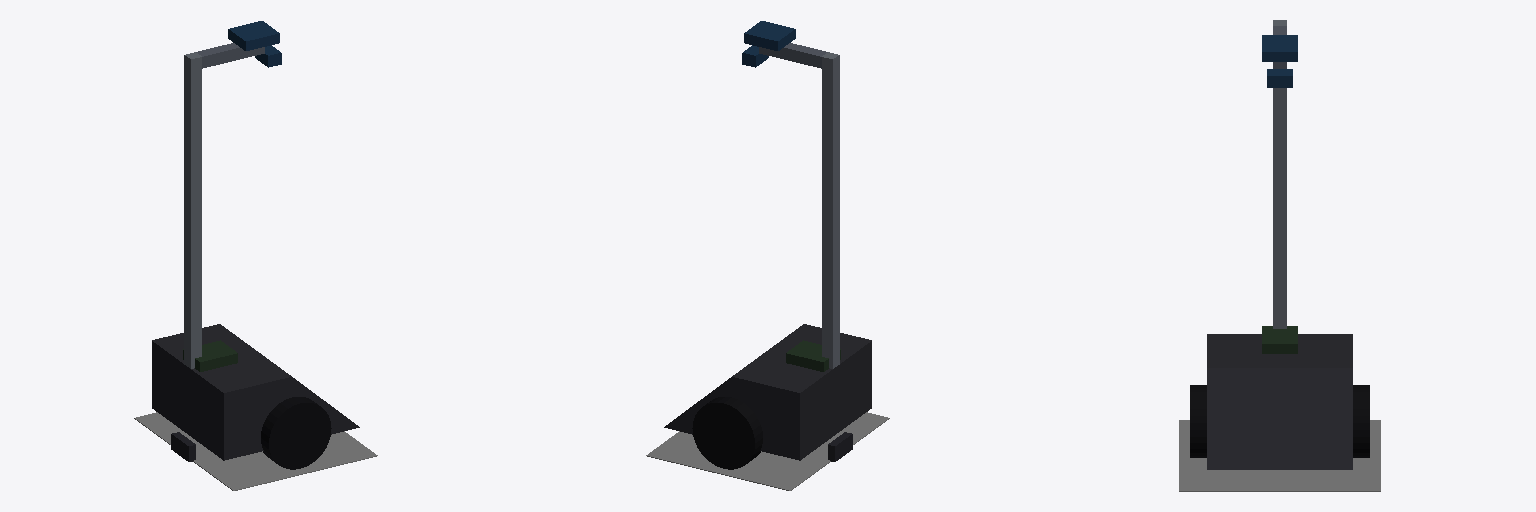
URDF robot description (anglerdroid):
<?xml version="1.0"?>
<robot name="anglerdroid">
  <link name="base_link">
    <!-- Trapezoidal body (STL mesh, origin already at axle centre) -->
    <visual name="body">
      <origin xyz="0 0 0" rpy="0 0 0"/>
      <geometry><mesh filename="meshes/body.stl"/></geometry>
      <material name="body_mat"><color rgba="0.18 0.18 0.20 1"/></material>
    </visual>

    <!-- Left wheel -->
    <visual name="wheel_left">
      <origin xyz="0.0000 -0.1770 0.0000" rpy="1.5708 0 0"/>
      <geometry><cylinder radius="0.0825" length="0.0500"/></geometry>
      <material name="wheel_left_mat"><color rgba="0.09 0.09 0.10 1"/></material>
    </visual>

    <!-- Right wheel -->
    <visual name="wheel_right">
      <origin xyz="0.0000 0.1770 0.0000" rpy="1.5708 0 0"/>
      <geometry><cylinder radius="0.0825" length="0.0500"/></geometry>
      <material name="wheel_right_mat"><color rgba="0.09 0.09 0.10 1"/></material>
    </visual>

    <!-- Caster -->
    <visual name="caster">
      <origin xyz="-0.1900 0.0000 -0.0650" rpy="0 0 0"/>
      <geometry><box size="0.0200 0.0800 0.0400"/></geometry>
      <material name="caster_mat"><color rgba="0.16 0.16 0.18 1"/></material>
    </visual>

    <!-- Mast -->
    <visual name="mast">
      <origin xyz="-0.1650 0.0000 0.5250" rpy="0 0 0"/>
      <geometry><box size="0.0300 0.0300 0.7800"/></geometry>
      <material name="mast_mat"><color rgba="0.40 0.42 0.45 1"/></material>
    </visual>

    <!-- Camera arm -->
    <visual name="camera_arm">
      <origin xyz="-0.0675 0.0000 0.9000" rpy="0 0 0"/>
      <geometry><box size="0.1650 0.0300 0.0300"/></geometry>
      <material name="camera_arm_mat"><color rgba="0.34 0.36 0.40 1"/></material>
    </visual>

    <!-- RS1 top-down camera -->
    <visual name="rs1_topdown">
      <origin xyz="-0.0050 0.0000 0.9275" rpy="0 0 0"/>
      <geometry><box size="0.0900 0.0800 0.0250"/></geometry>
      <material name="rs1_topdown_mat"><color rgba="0.12 0.22 0.32 1"/></material>
    </visual>

    <!-- RS2 forward camera -->
    <visual name="rs2_forward">
      <origin xyz="0.0325 0.0000 0.8700" rpy="0 0 0"/>
      <geometry><box size="0.0350 0.0600 0.0300"/></geometry>
      <material name="rs2_forward_mat"><color rgba="0.12 0.22 0.32 1"/></material>
    </visual>

    <!-- Jetson NX -->
    <visual name="jetson_nx">
      <origin xyz="-0.1200 0.0000 0.1475" rpy="0 0 0"/>
      <geometry><box size="0.1000 0.0800 0.0250"/></geometry>
      <material name="jetson_nx_mat"><color rgba="0.16 0.22 0.16 1"/></material>
    </visual>

    <!-- Base footprint (ground reference, transparent) -->
    <visual name="footprint">
      <origin xyz="0.0000 0.0000 -0.0840" rpy="0 0 0"/>
      <geometry><box size="0.3800 0.4540 0.0020"/></geometry>
      <material name="footprint_mat"><color rgba="0.5 0.5 0.5 0.2"/></material>
    </visual>

    <collision name="body_collision">
      <origin xyz="0 0 0" rpy="0 0 0"/>
      <geometry><mesh filename="meshes/body.stl"/></geometry>
    </collision>
  </link>
</robot>

--- What the picture shows (computed from the rendered views, not written in the file) ---
The picture shows the robot from 3 angles, left to right: view 1: azimuth 30°, elevation 25°; view 2: azimuth 150°, elevation 25°; view 3: azimuth 270°, elevation 25°; orthographic projection.
Model anglerdroid with 1 links and 0 joints (none), rooted at base_link, posed every joint at zero.
Visible links, largest first — view 1: base_link; view 2: base_link; view 3: base_link.
Link boxes in pixels (x1,y1,x2,y2): base_link: [134, 21, 377, 490]; base_link: [646, 21, 889, 490]; base_link: [1179, 20, 1380, 491].
Size in the robot's own frame: 0.39 by 0.454 by 1.02 metres.
1 mesh visuals loaded from 1 distinct referenced files (1 binary STL).
